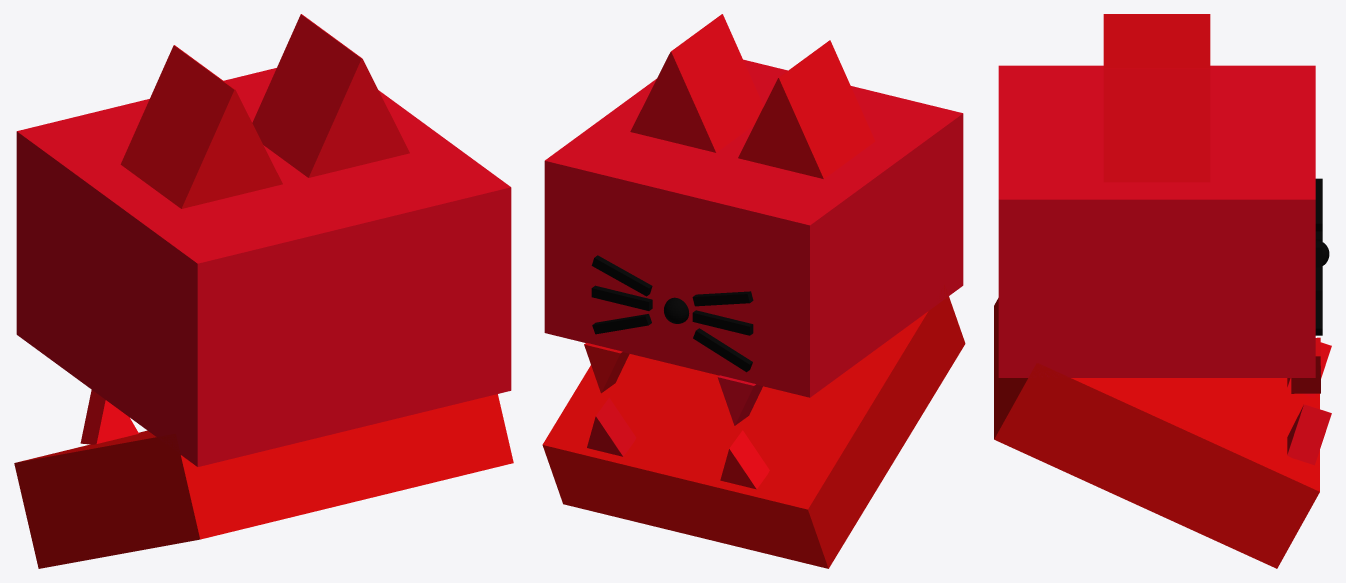
Rendered from Boss.fbx.
3 renders of one model, left to right at view 1: azimuth 30°, elevation 25°; view 2: azimuth 150°, elevation 25°; view 3: azimuth 270°, elevation 25°, orthographic. The views are drawn at different scales.
Visible parts, largest first — view 1: Cube.001, Cube, Cube.003, Cube.002, Cube.004; view 2: Cube.001, Cube, Cube.003, Cube.002, Cube.004, Cube.005, Cube.006, Cube.007, Cube.013, Cube.010, Cube.011, Cube.008 (+3 smaller); view 3: Cube.001, Cube, Cube.002, Cube.003, Cube.005, Cube.006, Cube.012.
Part boxes in pixels (<box>): Cube.001: <box>16,68,511,466</box>; Cube: <box>14,394,513,568</box>; Cube.003: <box>120,45,282,208</box>; Cube.002: <box>252,14,409,177</box>; Cube.004: <box>80,390,138,444</box>; Cube.001: <box>544,59,963,397</box>; Cube: <box>542,285,965,568</box>; Cube.003: <box>738,40,875,178</box>; Cube.002: <box>630,14,763,152</box>; Cube.004: <box>720,430,769,489</box>; Cube.005: <box>587,397,636,456</box>; Cube.006: <box>584,343,629,393</box>; Cube.007: <box>717,375,762,425</box>; Cube.013: <box>693,328,752,372</box>; Cube.010: <box>591,255,652,296</box>; Cube.011: <box>692,310,753,335</box>; Cube.008: <box>591,285,652,310</box>; Cube.001: <box>998,65,1315,377</box>; Cube: <box>994,298,1319,568</box>; Cube.002: <box>1103,68,1210,182</box>; Cube.003: <box>1103,14,1210,68</box>; Cube.005: <box>1287,404,1331,465</box>; Cube.006: <box>1291,337,1320,393</box>; Cube.012: <box>1315,178,1322,231</box>.
Bounding box in the file's own units: 200 × 322 × 213.
